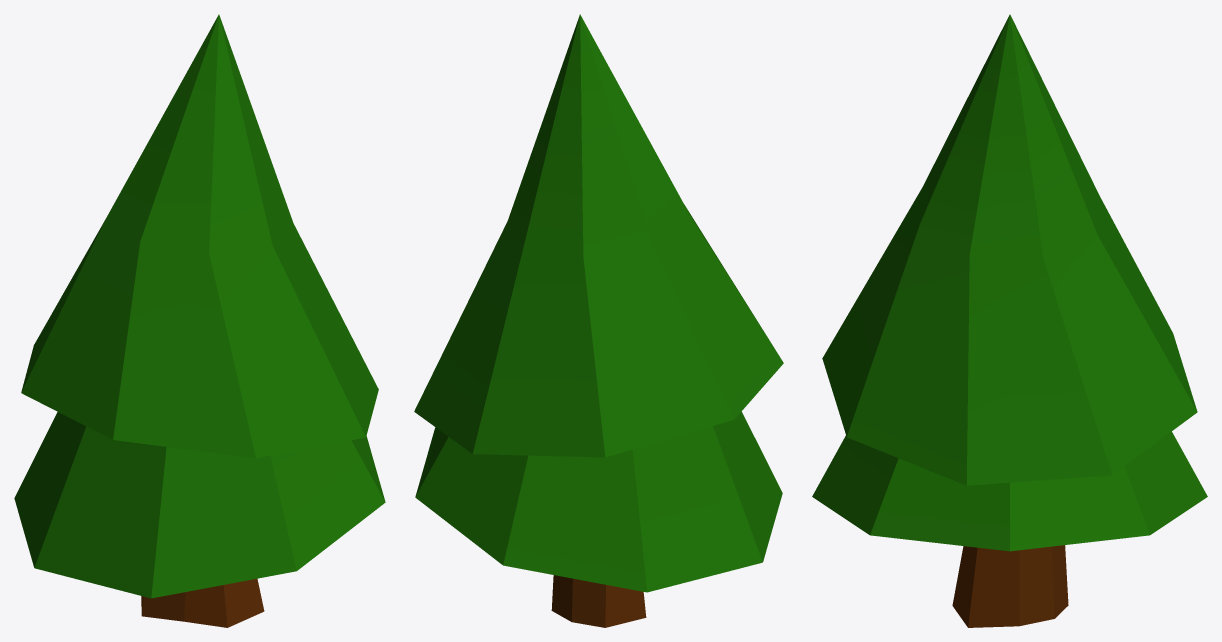
Rendered from pine-01.fbx.
The picture shows the model from 3 angles, left to right: view 1: azimuth 30°, elevation 25°; view 2: azimuth 150°, elevation 25°; view 3: azimuth 270°, elevation 25°; orthographic projection. The views are drawn at different scales.
Parts seen in each view (by area): view 1: pCone2, pCone1, trunk; view 2: pCone2, pCone1, trunk; view 3: pCone2, pCone1, trunk.
Part boxes in pixels (bbox=[...]): pCone2: bbox=[21, 14, 378, 458]; pCone1: bbox=[14, 412, 385, 598]; trunk: bbox=[141, 578, 264, 627]; pCone2: bbox=[414, 14, 783, 457]; pCone1: bbox=[415, 411, 782, 592]; trunk: bbox=[551, 575, 646, 627]; pCone2: bbox=[822, 14, 1197, 485]; pCone1: bbox=[812, 431, 1207, 551]; trunk: bbox=[952, 545, 1068, 627].
Bounding box in the file's own units: 3.17 × 5.39 × 3.21.
